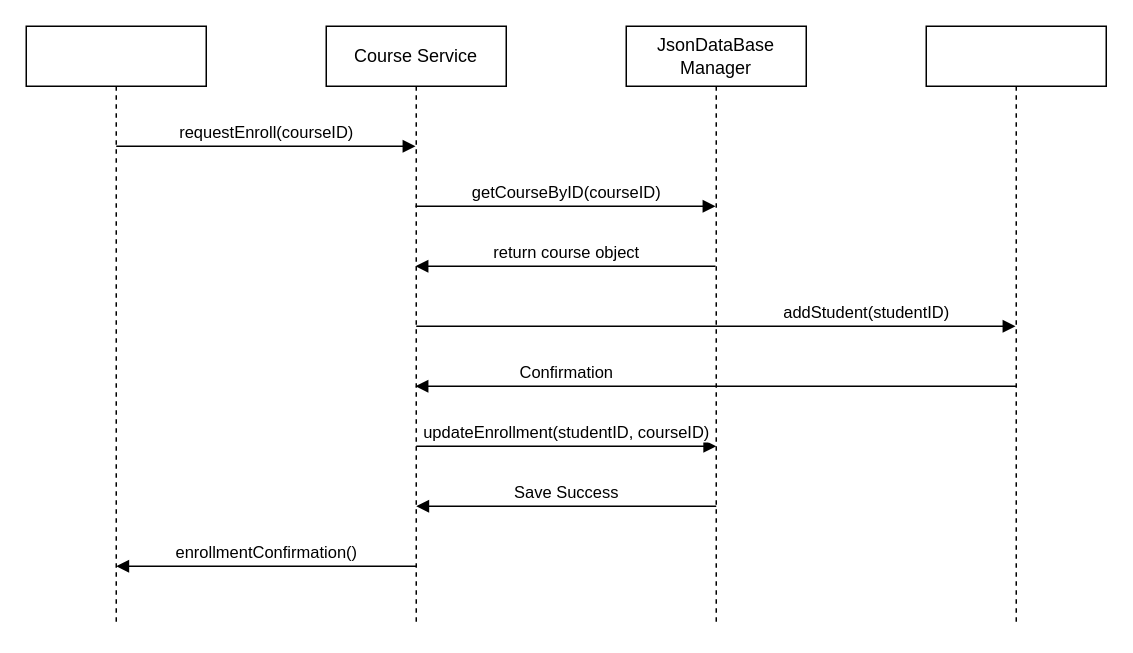
Some shapes in this 1133 by 653 pixel diagram are drawn without their labels. The shapes that lost their labels are listed below. From the top down, each one's box as (x1, y1, x2, y2) in pixels, then its label:
(25, 25, 206, 626): Student
(925, 25, 1106, 626): Course
